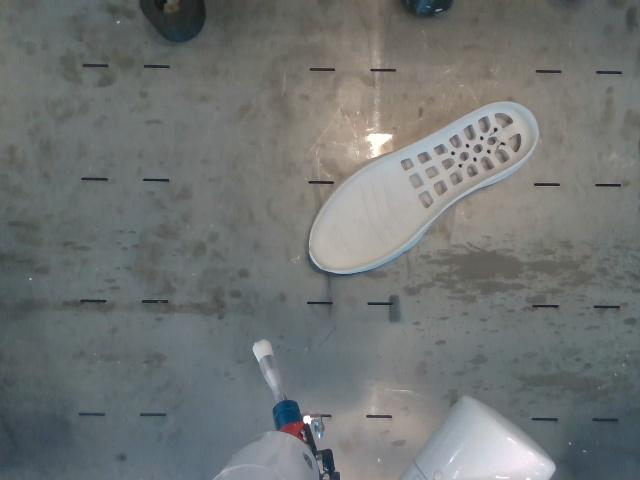shoes: (310, 103, 538, 271)
